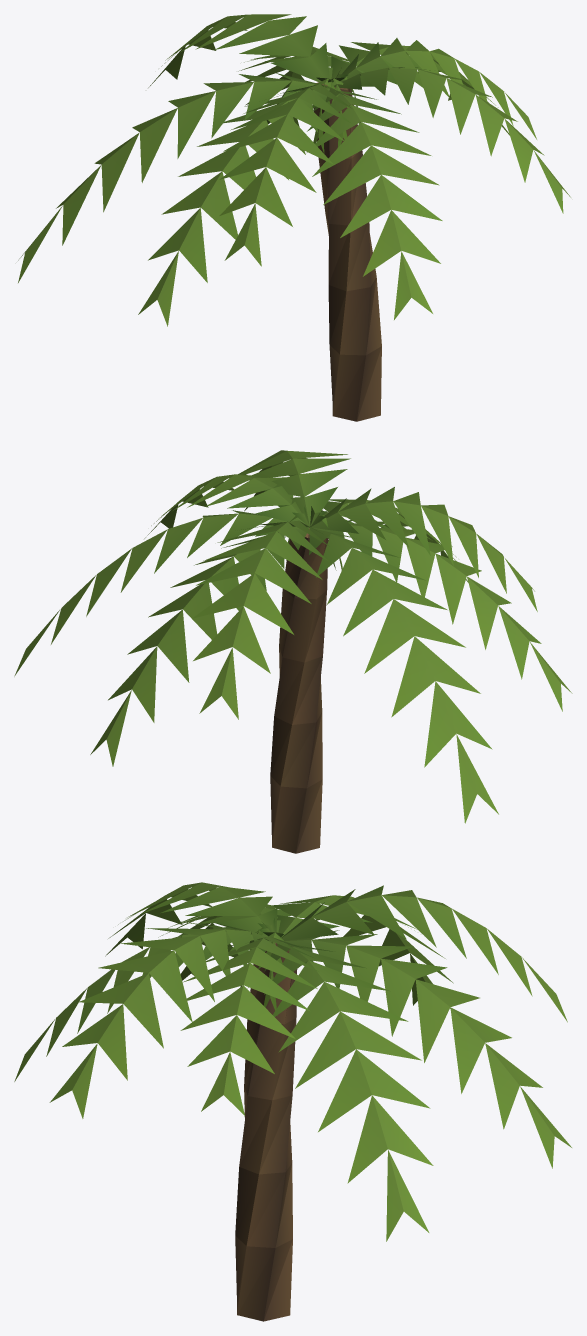
The model's file is treefern_b.glb.
The picture shows the model from 3 angles, top to bottom: view 1: azimuth 30°, elevation 25°; view 2: azimuth 150°, elevation 25°; view 3: azimuth 270°, elevation 25°; orthographic projection. The views are drawn at different scales.
Visible parts, largest first — view 1: treefern_b_leaf, treefern_b_solid; view 2: treefern_b_leaf, treefern_b_solid; view 3: treefern_b_leaf, treefern_b_solid.
Part boxes in pixels (box(x1,y1,x2,y2)): treefern_b_leaf: box(18, 14, 570, 326); treefern_b_solid: box(313, 82, 381, 421); treefern_b_leaf: box(14, 450, 572, 823); treefern_b_solid: box(270, 528, 328, 853); treefern_b_leaf: box(14, 882, 571, 1241); treefern_b_solid: box(235, 943, 297, 1321).
Bounding box in the file's own units: 3.17 × 2.22 × 2.84.
